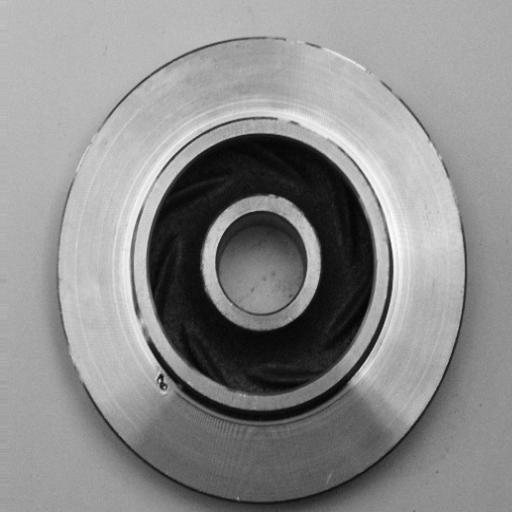crack: (149, 366, 175, 399)
scratch: (274, 113, 339, 146)
unpolished_casting: (53, 30, 468, 510)
